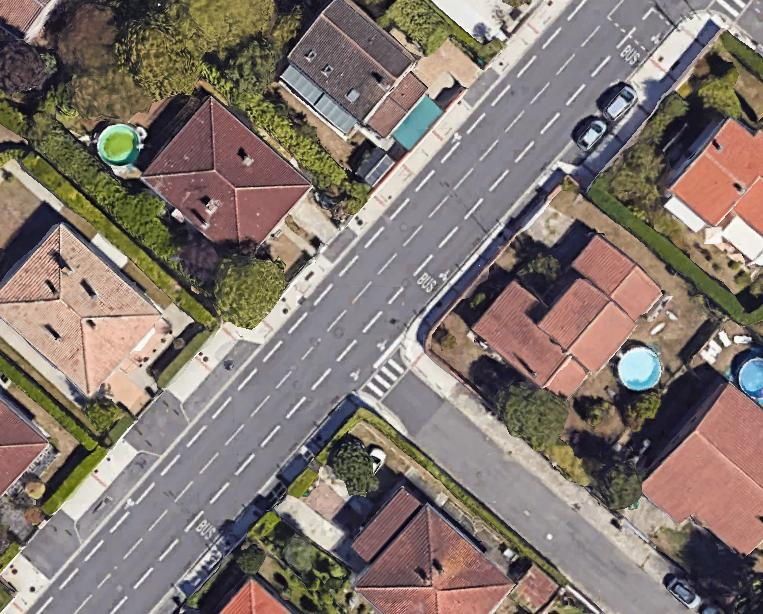maison: (468, 208, 665, 410), (0, 219, 168, 401), (139, 95, 313, 266), (269, 0, 438, 158), (635, 377, 763, 569), (331, 484, 517, 614), (666, 117, 762, 263), (0, 398, 48, 496), (0, 0, 60, 41), (219, 579, 286, 613)
